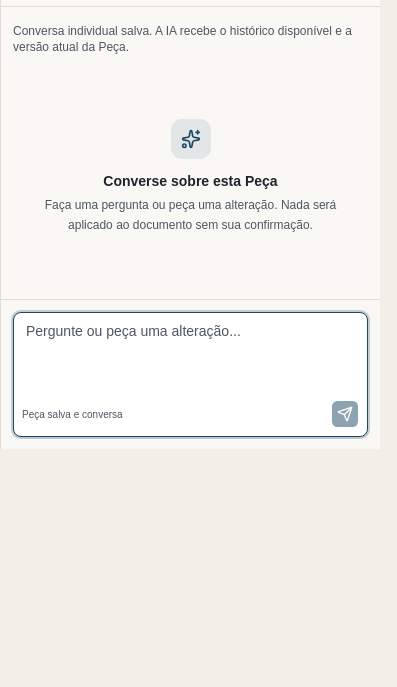
Test: AssistantPanel › bloqueia aplicação e explica o estado NAO_SALVO
In the text box named "O que você quer que a IA faça?": (190, 353) [14, 313, 367, 393], type "Reescreva o parágrafo inicial."
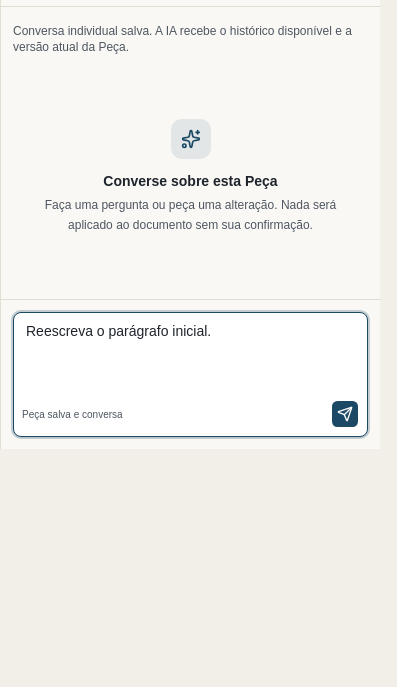
Click the button named "Enviar para IA": (345, 414) [331, 400, 359, 428]
(page scrolled)
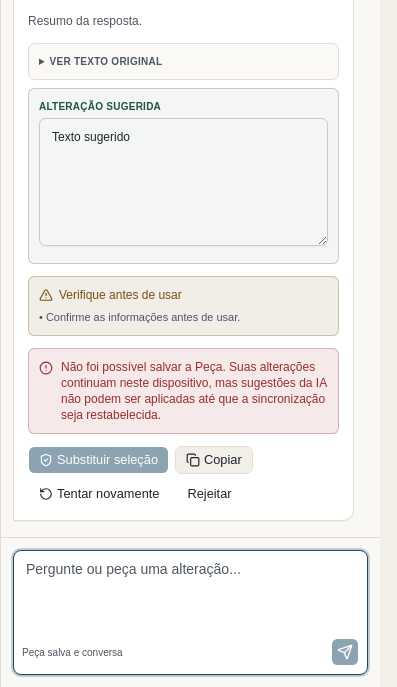
Expected: the text "não podem ser aplicadas até que a sincronização seja restabelecida" is shown, [61, 360, 327, 422]
Expected: the button "Substituir seleção" is disabled, [28, 446, 169, 474]
